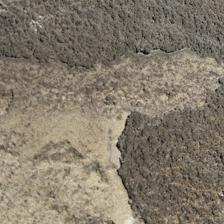Crack: (38, 0, 142, 96), (83, 21, 136, 132), (41, 93, 80, 127), (18, 94, 52, 122)
